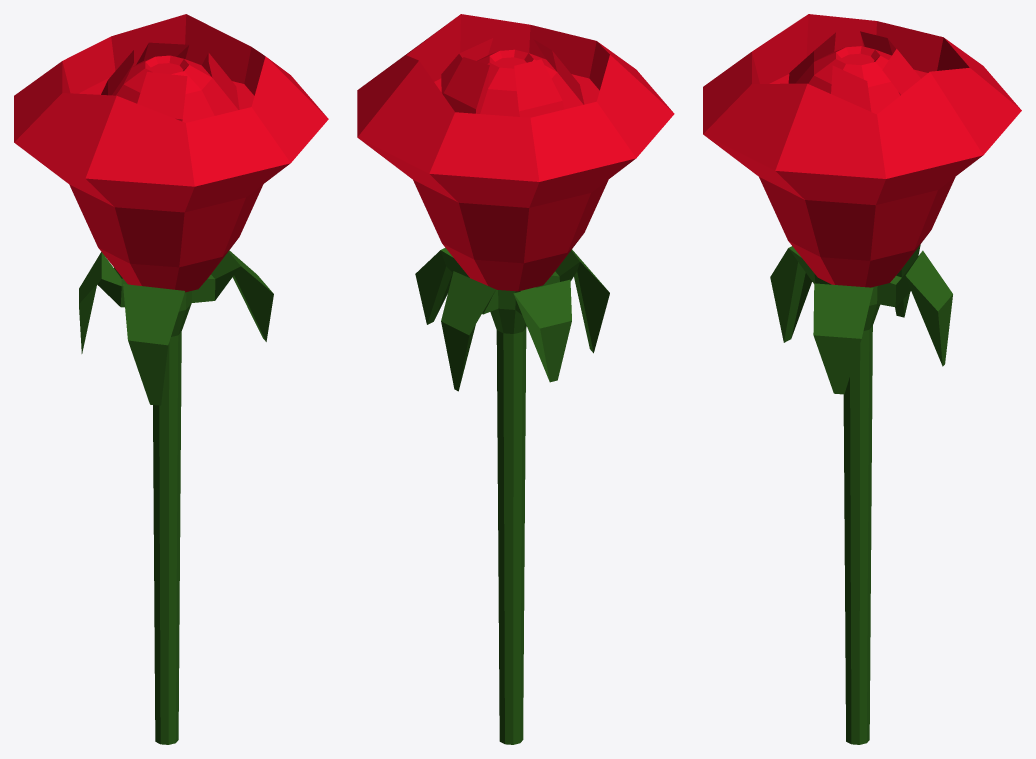
Rendered from rosa.fbx.
3 views of the same model, side by side, from view 1: azimuth 30°, elevation 25°; view 2: azimuth 150°, elevation 25°; view 3: azimuth 270°, elevation 25° (orthographic).
Visible parts, largest first — view 1: Cylinder; view 2: Cylinder; view 3: Cylinder.
Part boxes in pixels (x1,y1,x2,y2): Cylinder: (14,14,328,744); Cylinder: (357,14,674,744); Cylinder: (703,14,1021,744).
Size of the model in its own units: 288 by 683 by 284.
